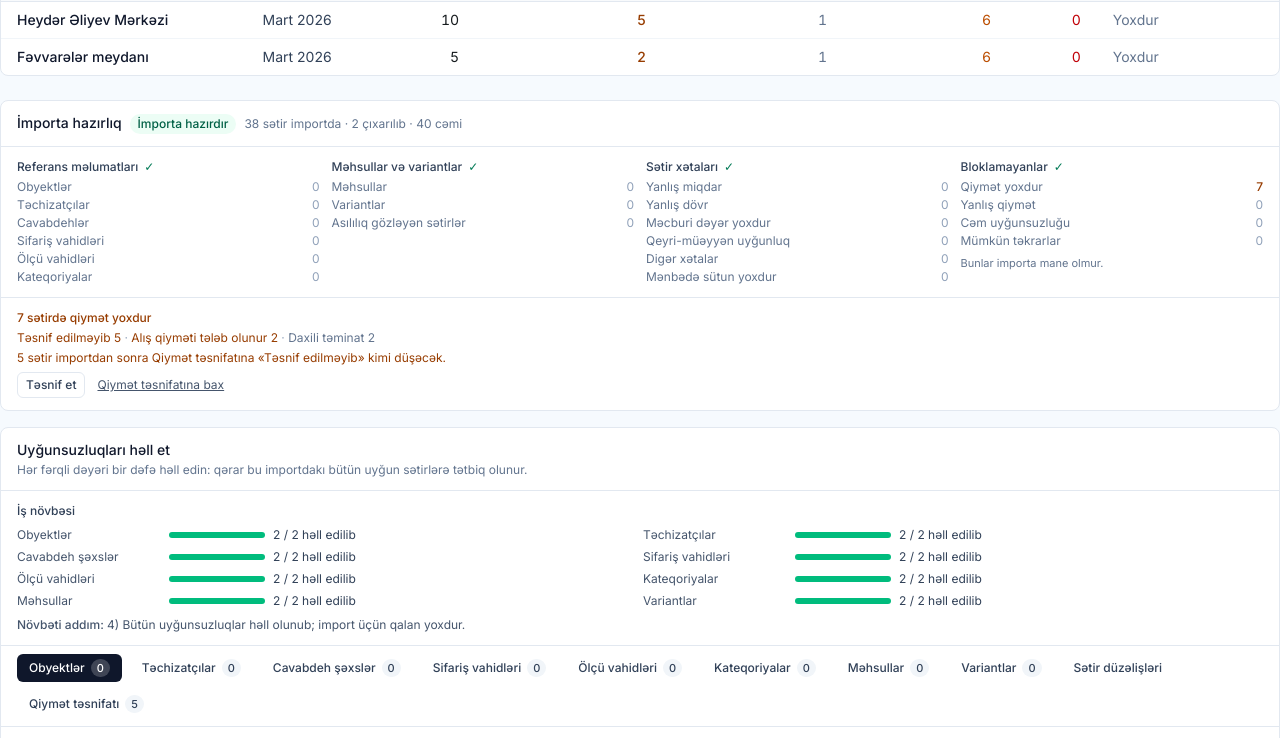
Test: the review › refreshes the readiness, the badge and the groups after a classification
This screenshot has width=1280, height=738.
(page scrolled)
Click the button "Təsnif et" at x=51, y=385, box [17,372,86,398]
(page scrolled)
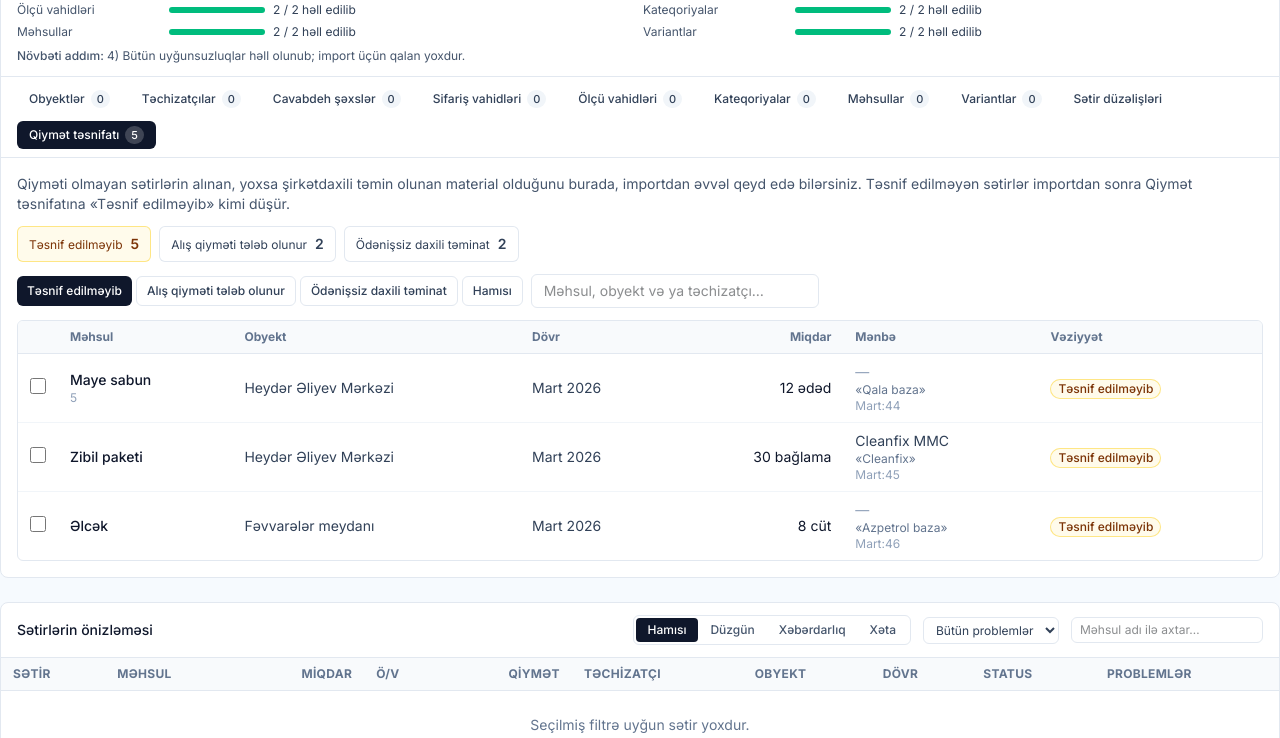
Click the checkbox named "Maye sabun · Heydər Əliyev Mərkəzi · Mart 2026" at x=38, y=386, box [30,378,46,394]
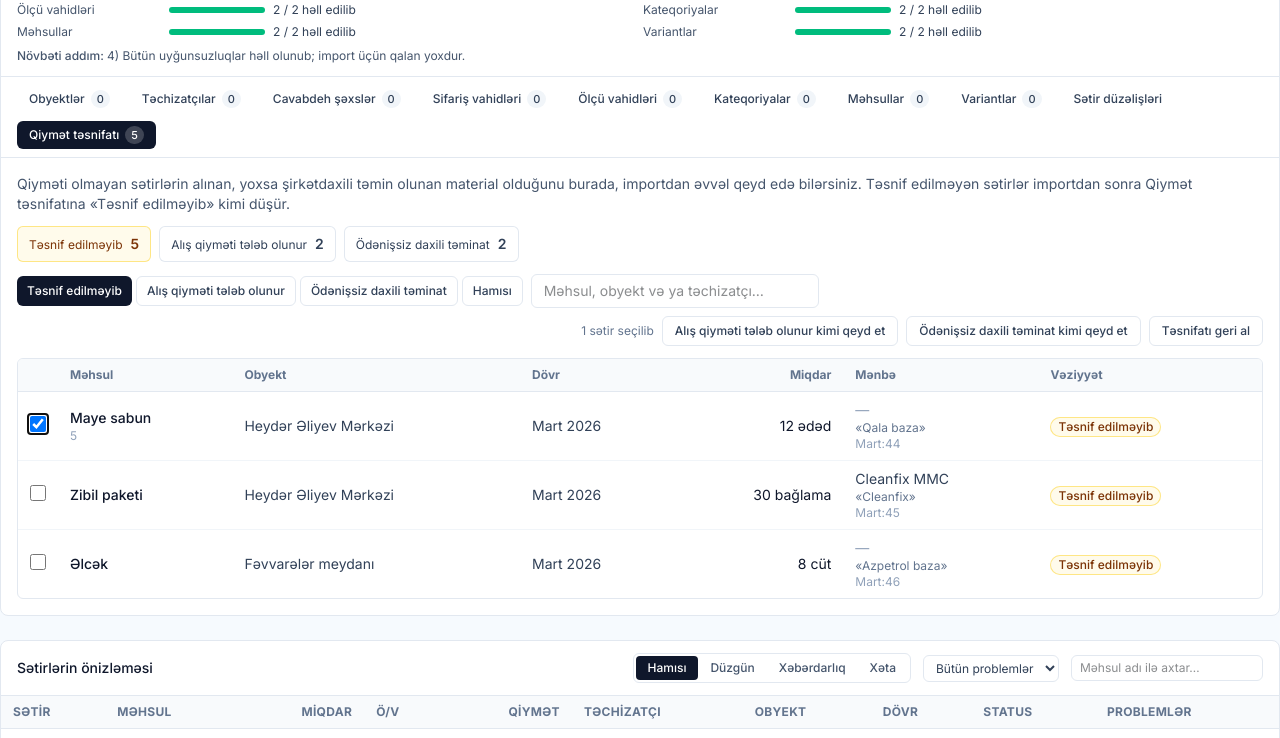
Click the checkbox named "Zibil paketi · Heydər Əliyev Mərkəzi · Mart 2026" at x=38, y=492, box [30,484,46,500]
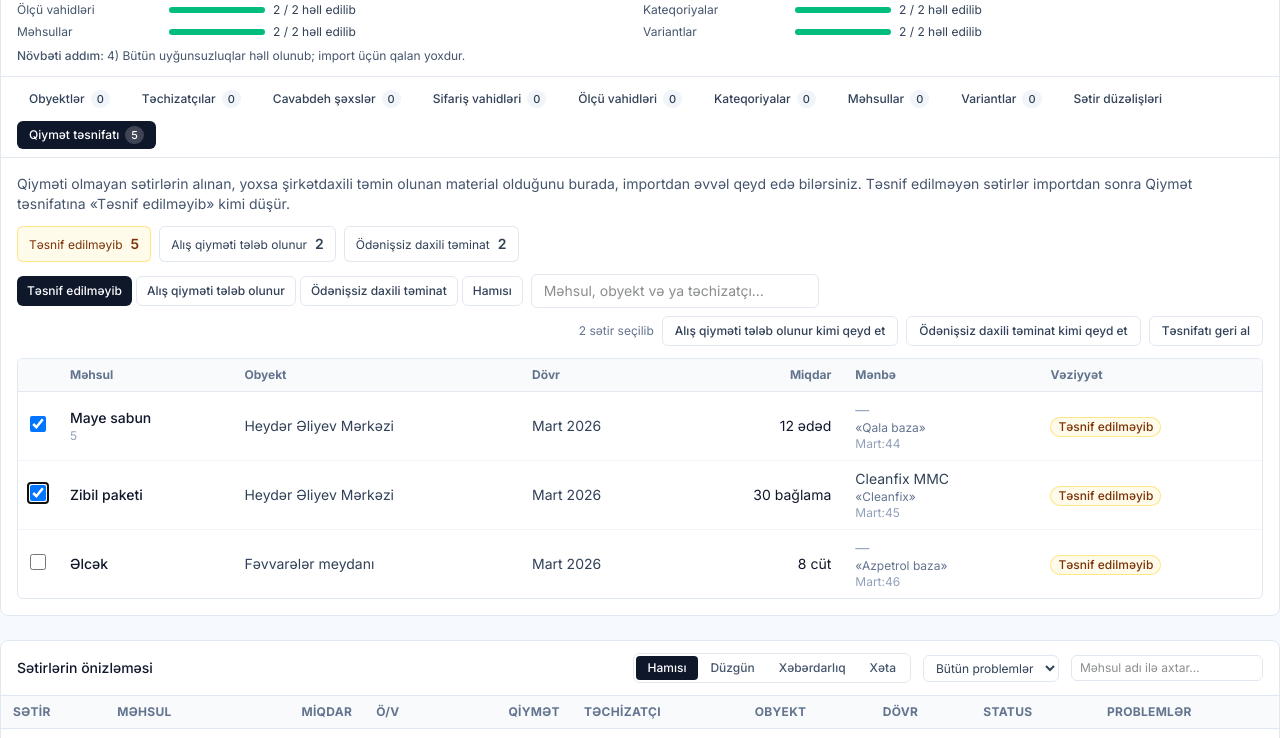
Click the button "Ödənişsiz daxili təminat kimi qeyd et" at x=1024, y=331, box [906,316,1141,346]
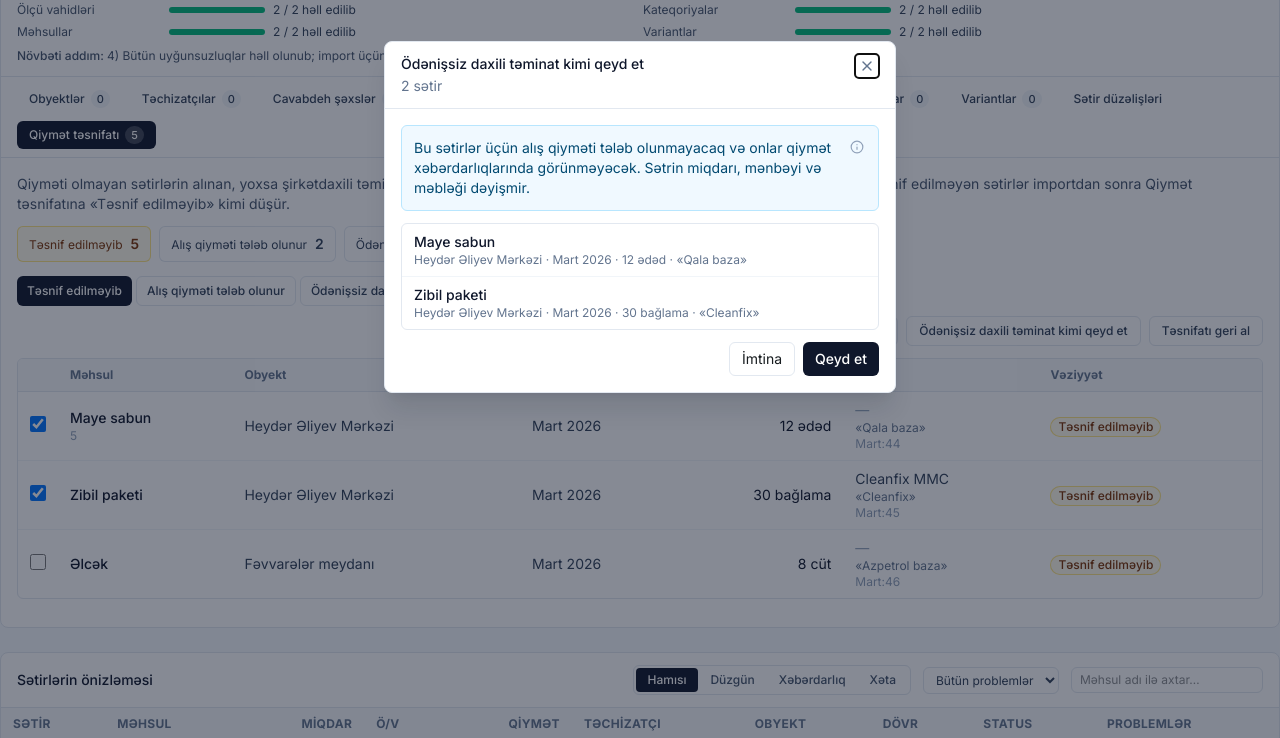
Click the button "Qeyd et" at x=841, y=359, box [803,342,879,376]
(page scrolled)
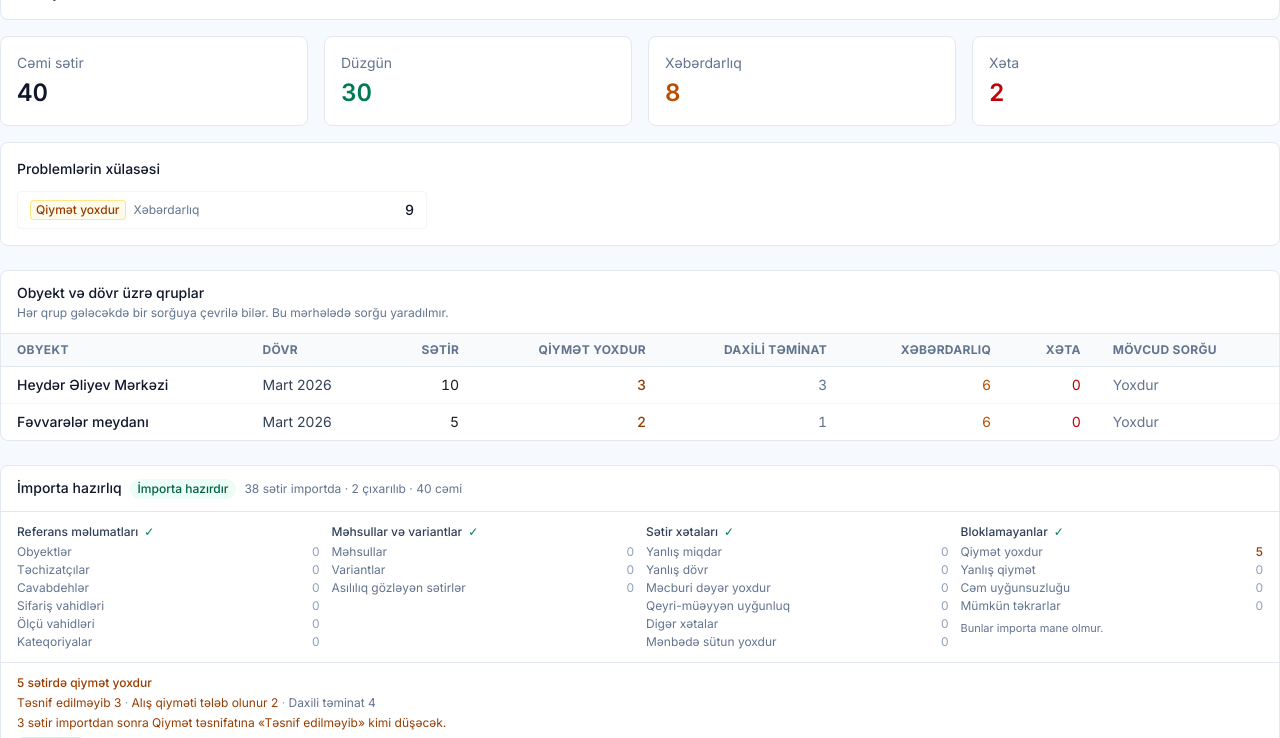
Check: the text "5 sətirdə qiymət yoxdur" is shown, box [17,675,152,690]
Check: the text "3 sətir importdan sonra Qiymət təsnifatına «Təsnif edilməyib» kimi düşəcək." is shown, box [17,715,446,730]
Check: the 1st cell "3" is shown, box [475,366,662,404]
